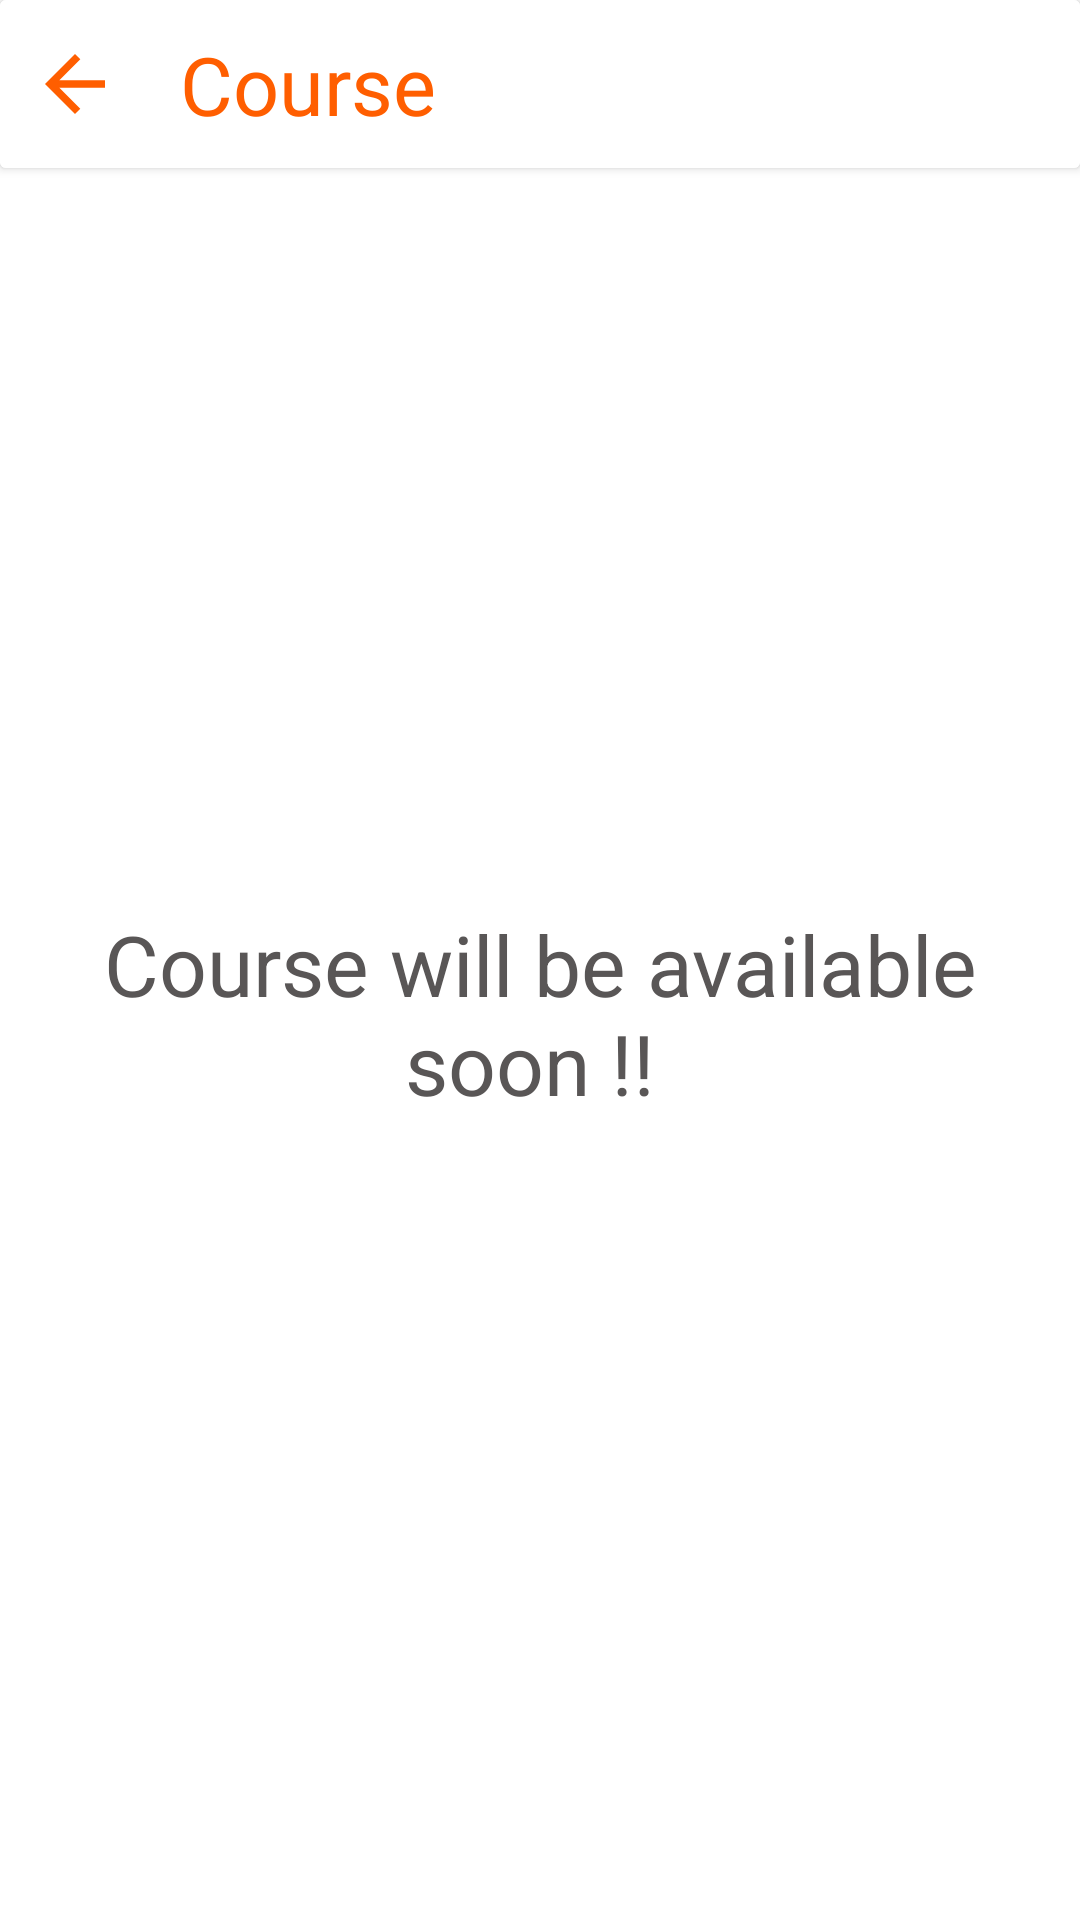

Icon bounding boxes for this 1080 x 1920 phone screenshot, format [left=x1, top=y1, right=x2, bottom=y2]:
arrow back: [left=0, top=2, right=105, bottom=168]
